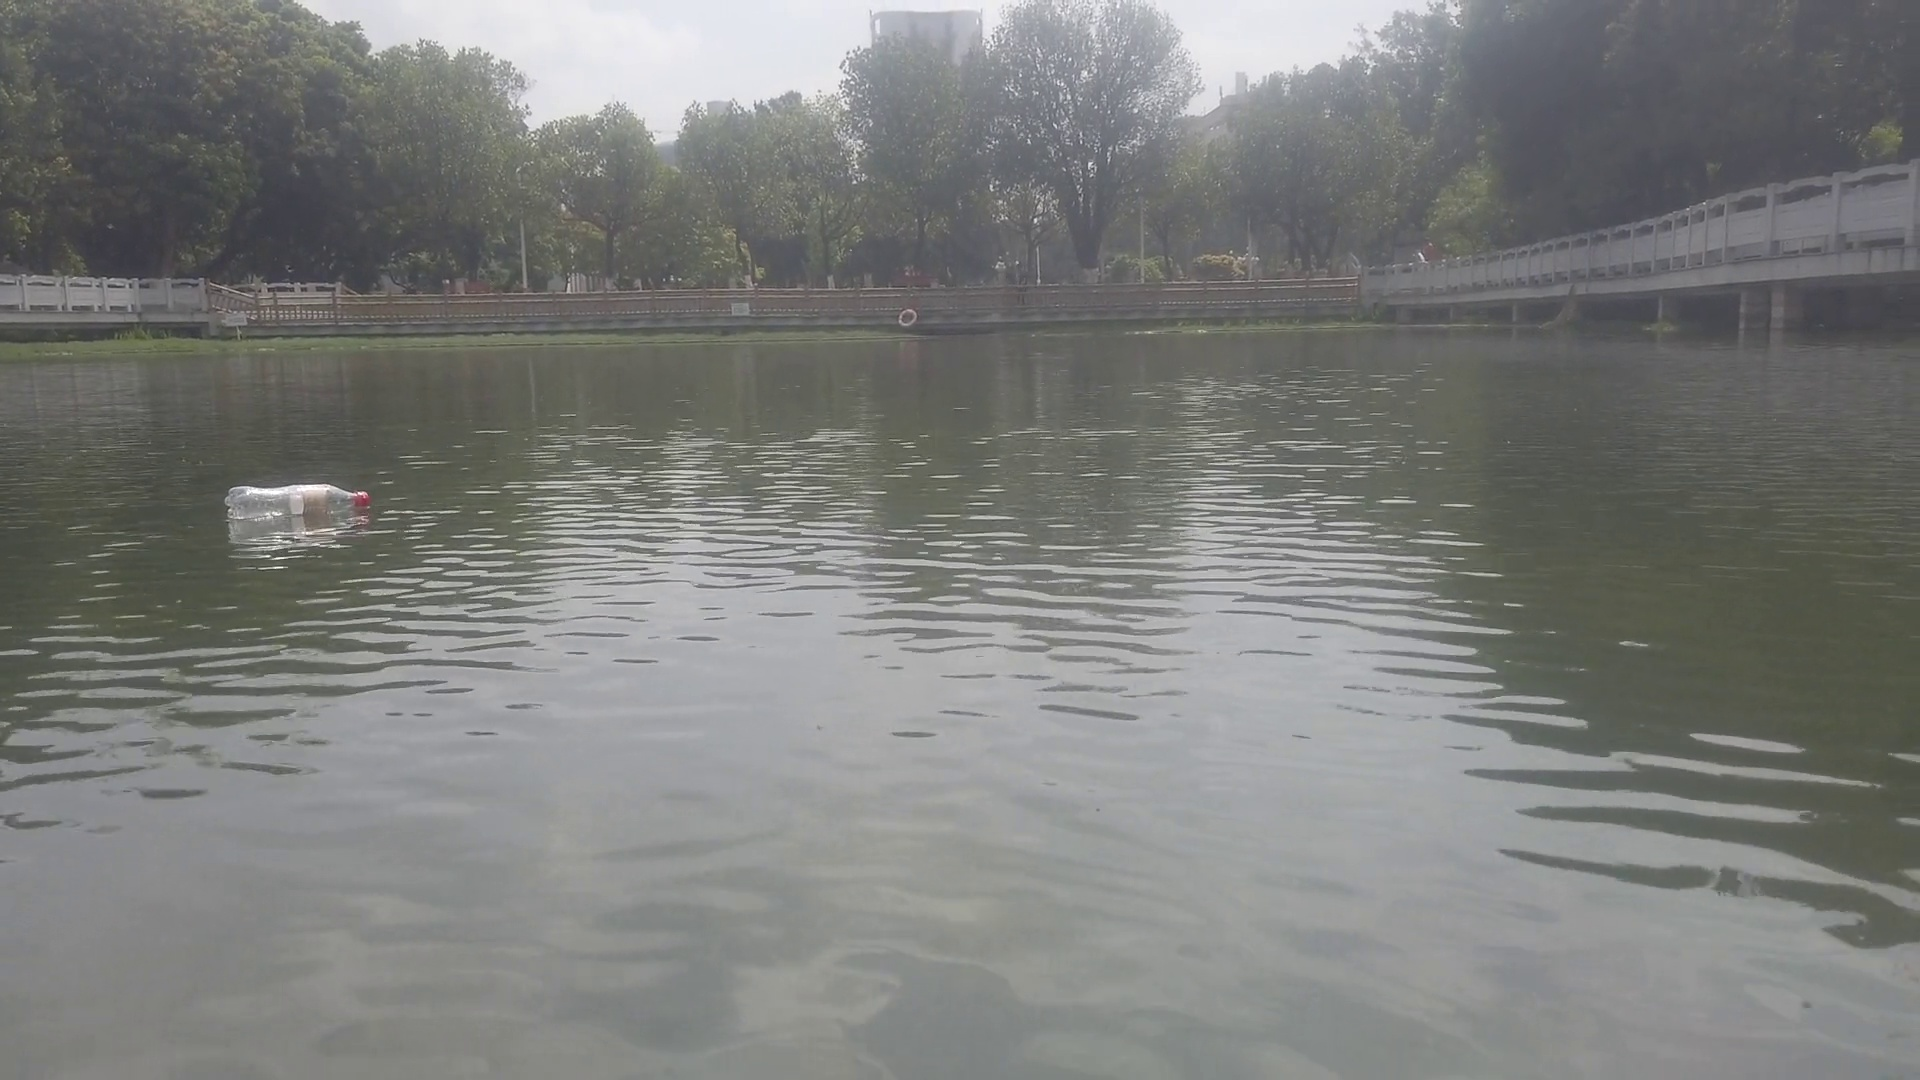bottle: (224, 477, 372, 524)
